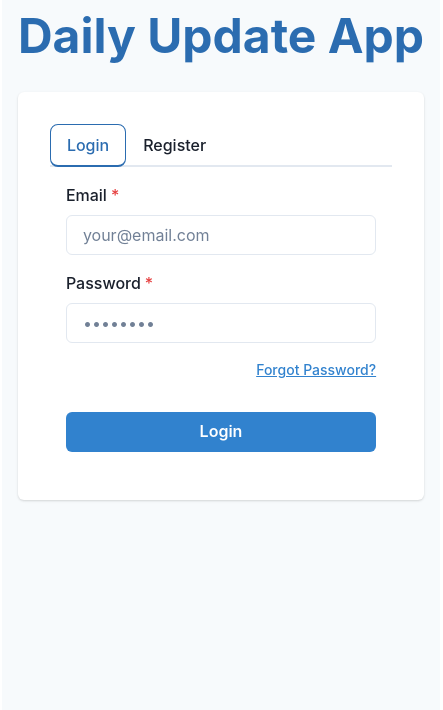
Test: Login page › shows an error toast when credentials are invalid
Type "wrong@example.com" into the field with placeholder "your@email.com".
click(221, 235); type("wrong@example.com")  # box 66,215 -> 376,255
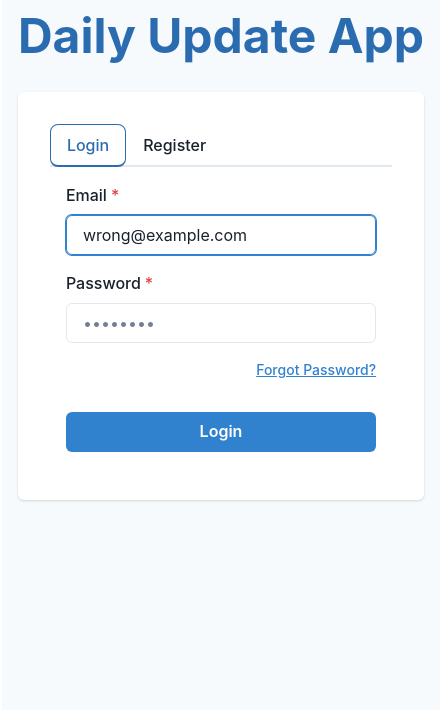
Type "badpassword" into the password field with placeholder "••••••••".
click(221, 323); type("badpassword")  # box 66,303 -> 376,343
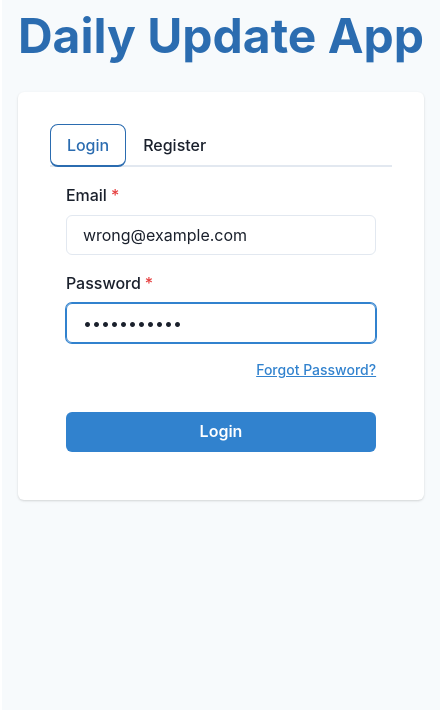
Click the button "Login".
click(221, 432)  # box 66,412 -> 376,452
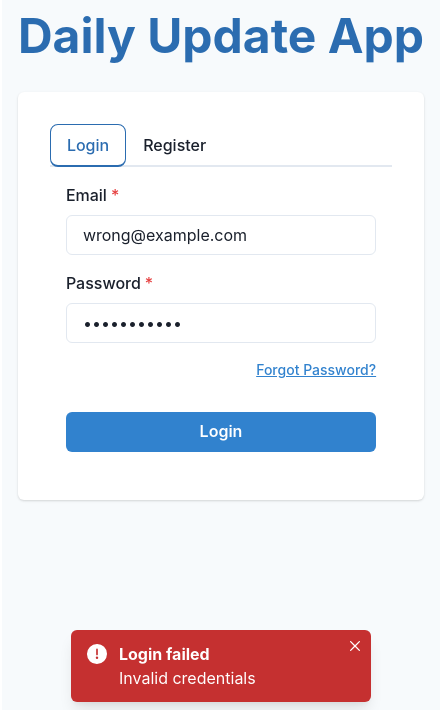
Expected: the text "Login failed" is shown, 119,644 -> 210,664
Expected: the text "Invalid credentials" is shown, 119,668 -> 256,688
